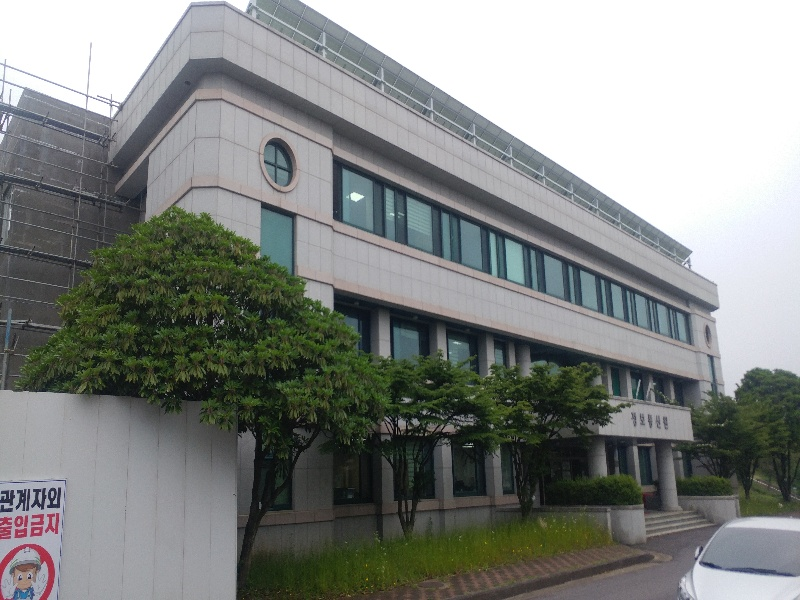Information Telecommunication Center: (4, 4, 743, 530), (110, 33, 729, 395), (350, 58, 735, 529), (617, 401, 692, 439)
